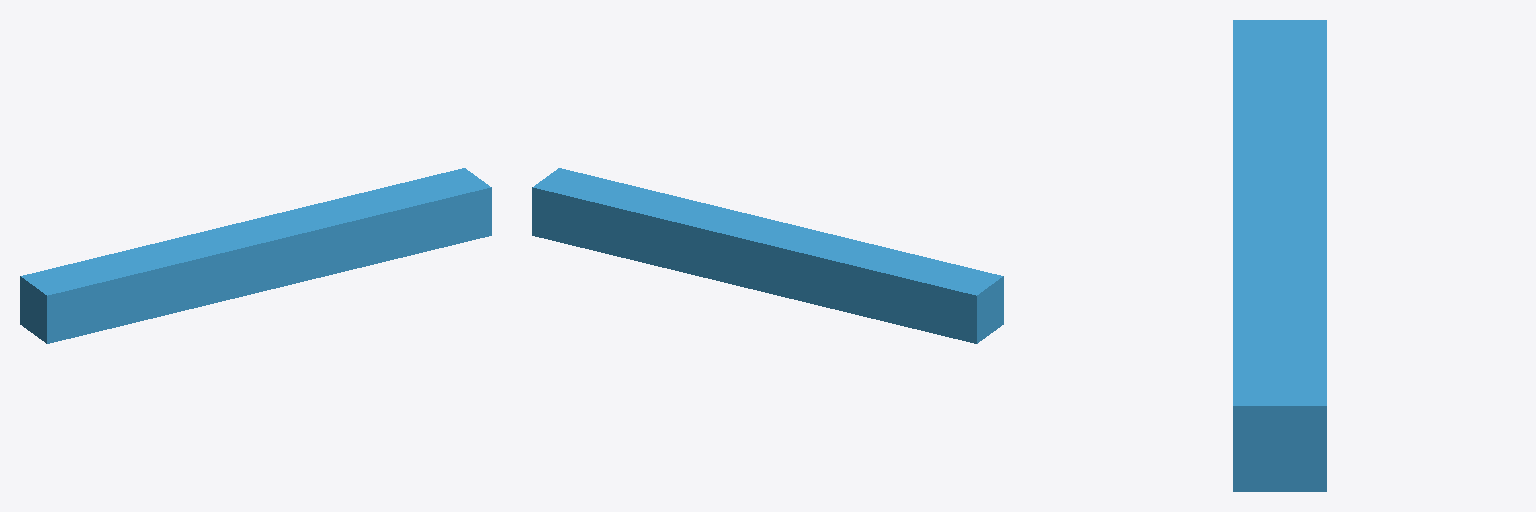
URDF robot description (sensor_hinge):
<?xml version="1.0"?>
<robot name="sensor_hinge">
  <link name="base">
    <inertial><mass value="1"/>
      <inertia ixx="0.01" ixy="0" ixz="0" iyy="0.01" iyz="0" izz="0.01"/>
    </inertial>
  </link>
  <link name="arm">
    <inertial><origin xyz="0.12 0 0"/><mass value="0.2"/>
      <inertia ixx="0.0001" ixy="0" ixz="0" iyy="0.001" iyz="0" izz="0.001"/>
    </inertial>
    <visual><origin xyz="0.12 0 0"/><geometry><box size="0.24 0.025 0.025"/></geometry></visual>
    <collision><origin xyz="0.12 0 0"/><geometry><box size="0.24 0.025 0.025"/></geometry></collision>
  </link>
  <joint name="hinge" type="revolute">
    <parent link="base"/><child link="arm"/><axis xyz="0 0 1"/>
    <limit lower="-1.7" upper="1.7" effort="20" velocity="20"/>
  </joint>
</robot>

--- Render facts (derived) ---
Views: 3 orthographic renders of the robot side by side, from view 1: azimuth 30°, elevation 25°; view 2: azimuth 150°, elevation 25°; view 3: azimuth 270°, elevation 25°.
Model sensor_hinge with 2 links and 1 joints (1 revolute), rooted at base, posed every joint at zero.
Visible links, largest first — view 1: arm; view 2: arm; view 3: arm.
Link boxes in pixels (<box>): arm: <box>20,168,491,343</box>; arm: <box>532,168,1003,343</box>; arm: <box>1233,20,1326,491</box>.
Size in the robot's own frame: 0.24 by 0.025 by 0.025 metres.
Geometry: primitives only (box / cylinder / sphere), no mesh files.
